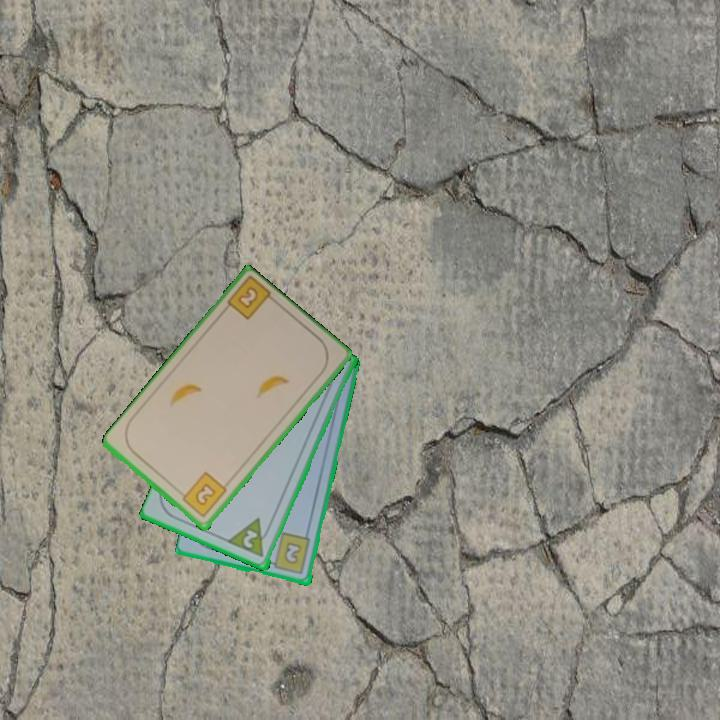2b: (175, 469, 230, 521), (265, 530, 313, 577), (234, 283, 261, 312)
2p: (225, 515, 275, 561)
